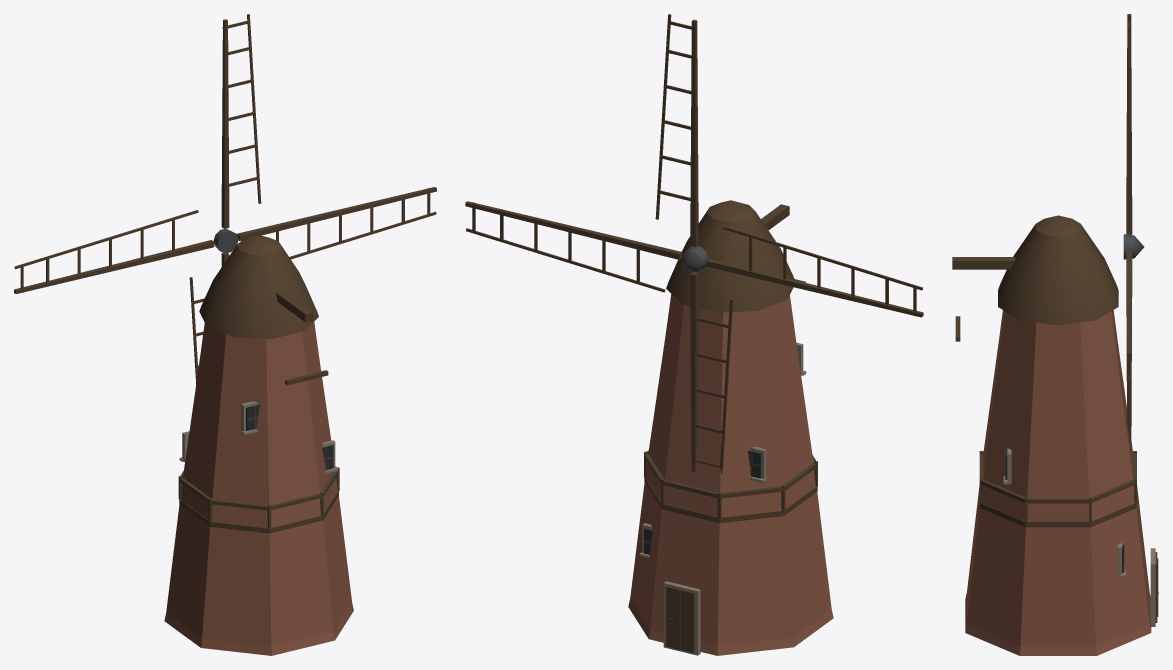
Rendered from windmill.glb.
The picture shows the model from 3 angles, left to right: view 1: azimuth 30°, elevation 25°; view 2: azimuth 150°, elevation 25°; view 3: azimuth 270°, elevation 25°; orthographic projection. The views are drawn at different scales.
Parts seen in each view (by area): view 1: windmill, sails; view 2: windmill, sails; view 3: windmill, sails.
Boxes of the visible parts, x1,y1,x2,y2 form: windmill: (164,235,353,655); sails: (14,14,436,384); windmill: (628,200,833,655); sails: (465,14,923,474); windmill: (952,215,1158,655); sails: (1123,14,1144,451).
Size of the model in its own units: 18.41 by 23.94 by 7.4.
